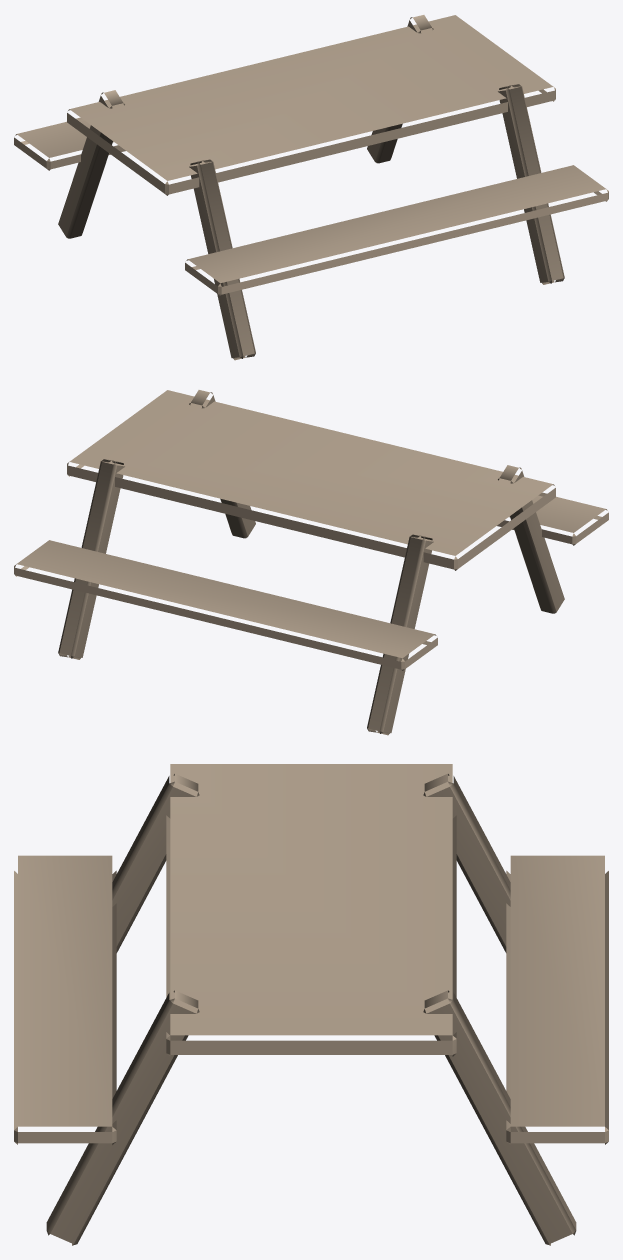
The model's file is picnic_table.glb.
The picture shows the model from 3 angles, top to bottom: view 1: azimuth 30°, elevation 25°; view 2: azimuth 150°, elevation 25°; view 3: azimuth 270°, elevation 25°; orthographic projection. The views are drawn at different scales.
Visible parts, largest first — view 1: props_picnic_table; view 2: props_picnic_table; view 3: props_picnic_table.
Boxes of the visible parts, x1,y1,x2,y2 form: props_picnic_table: (14, 15, 608, 360); props_picnic_table: (14, 390, 608, 735); props_picnic_table: (14, 764, 608, 1245).
Bounding box in the file's own units: 1.9 × 0.7984 × 1.74.
